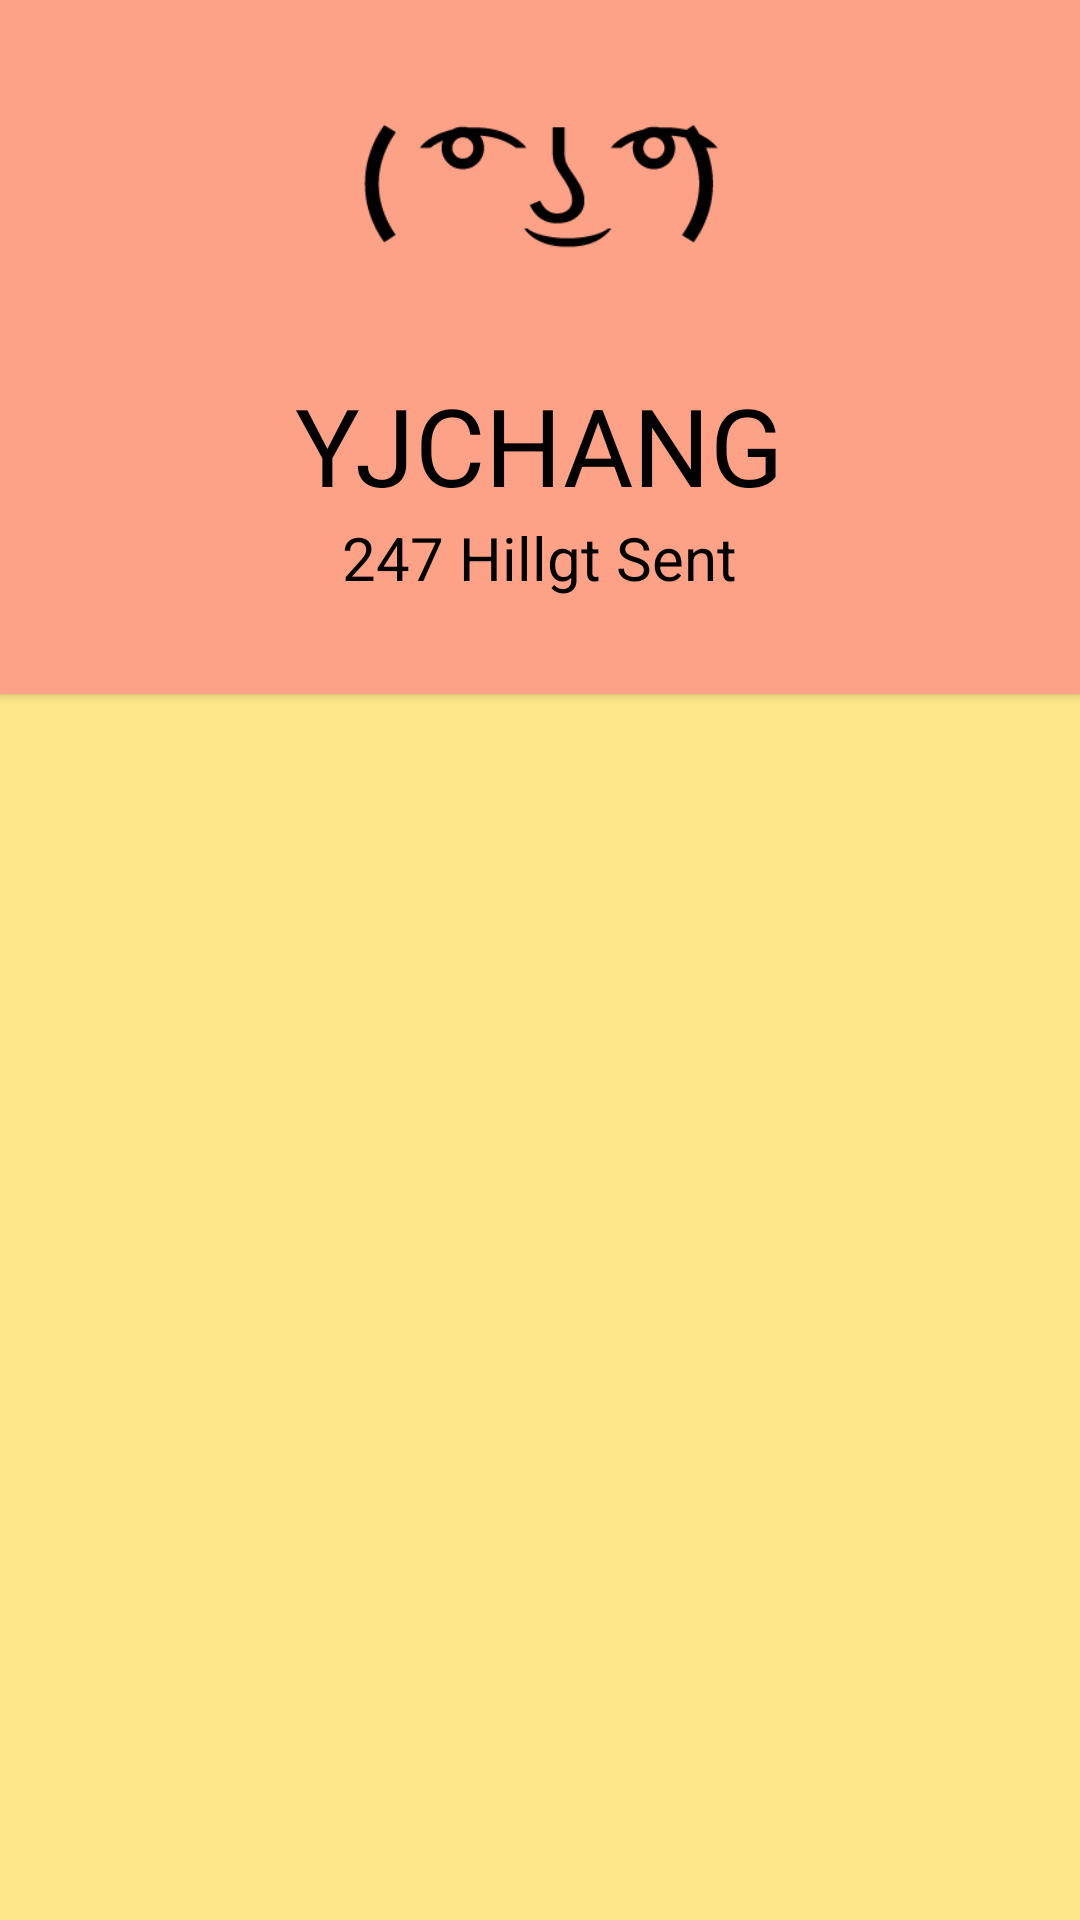

Icon click points for this 1080px x 1920px phone screenshot, format (x=x, y=y):
face: (x=541, y=186)
